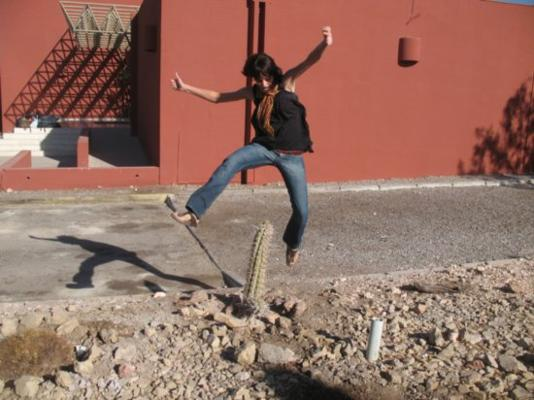person: (168, 27, 340, 269)
